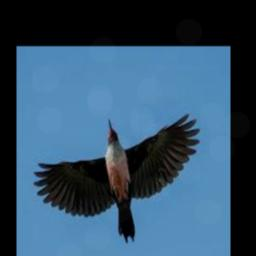Woodpecker: (33, 113, 199, 242)
